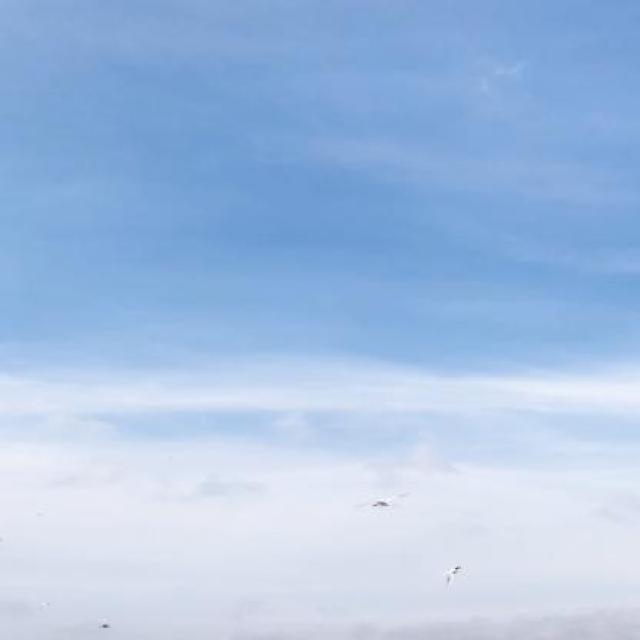bird: (350, 490, 413, 512), (436, 562, 464, 589), (94, 621, 111, 628)
